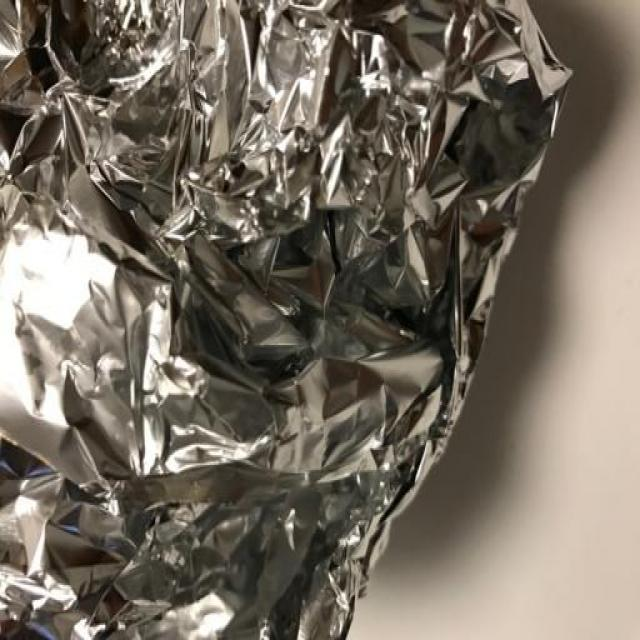others: (2, 2, 622, 640)
